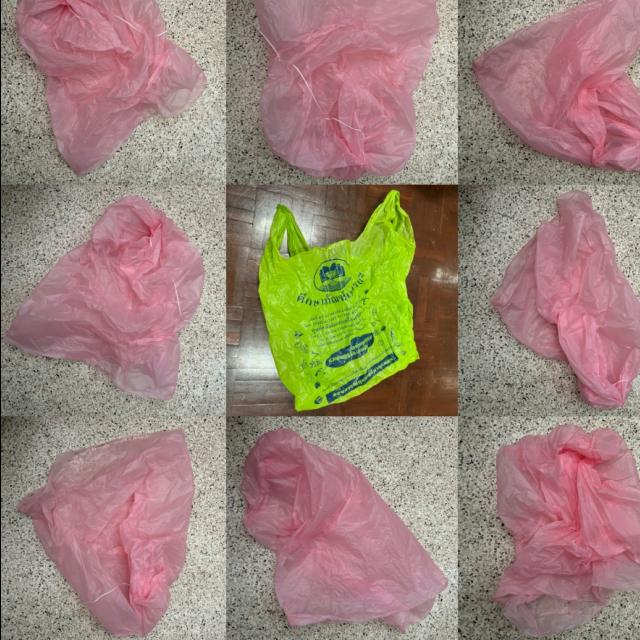plastik: (241, 429, 447, 633), (4, 196, 204, 400), (17, 429, 193, 637), (258, 190, 417, 410), (15, 0, 205, 176), (254, 0, 437, 181), (490, 190, 640, 410), (492, 425, 640, 637), (473, 0, 640, 171)
